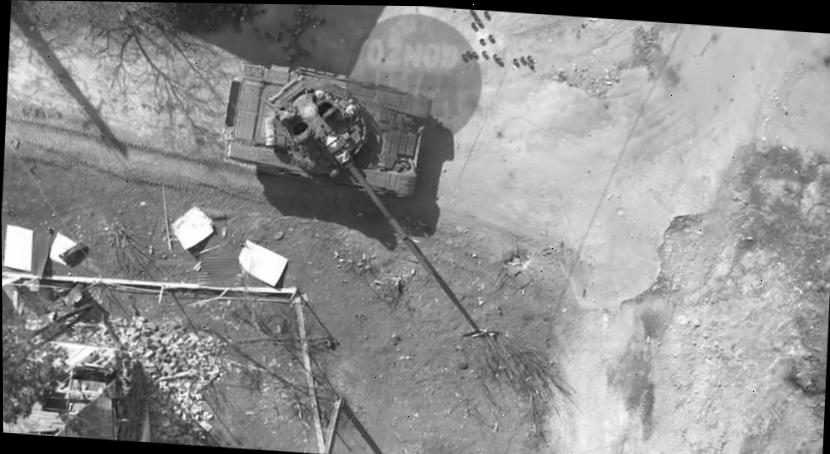tank: (214, 57, 448, 278)
